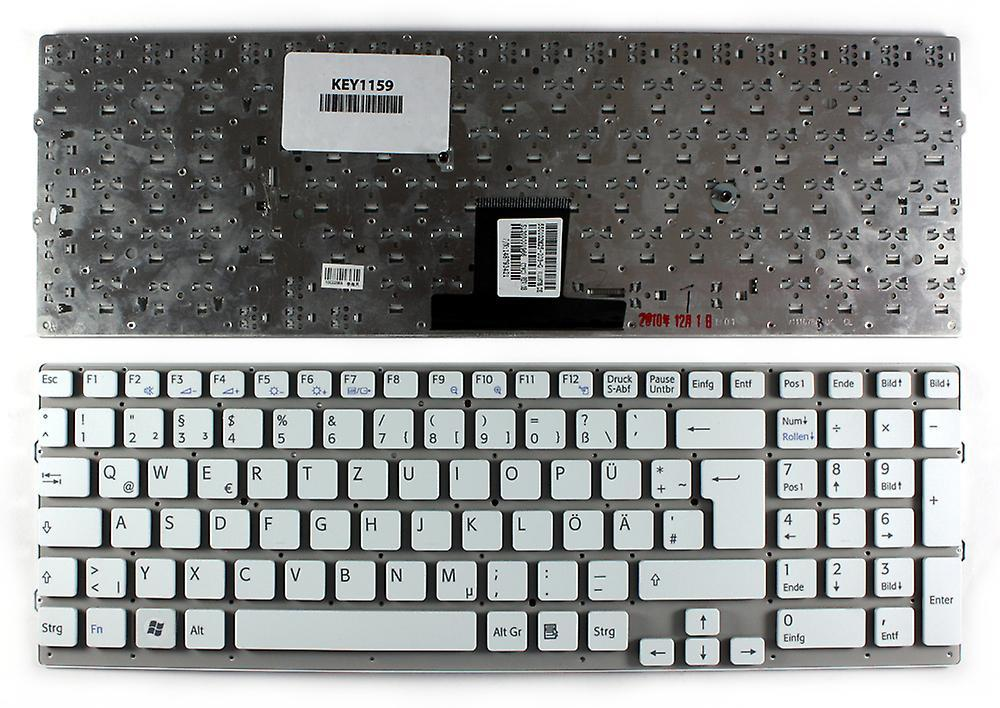0: (521, 405, 565, 448)
1: (72, 404, 114, 446)
2: (120, 405, 163, 447)
3: (169, 405, 213, 447)
4: (219, 405, 261, 447)
5: (268, 405, 312, 447)
6: (319, 405, 362, 447)
7: (369, 406, 413, 448)
8: (420, 406, 464, 448)
9: (471, 406, 515, 448)
a: (107, 504, 149, 546)
accent: (622, 405, 665, 447)
ae: (609, 506, 652, 548)
alt-left: (180, 606, 223, 648)
altgr-right: (483, 607, 526, 649)
b: (330, 556, 374, 599)
c: (230, 555, 273, 598)
caret: (30, 405, 66, 446)
comma: (483, 557, 526, 600)
d: (205, 505, 249, 547)
del: (672, 405, 764, 447)
e: (193, 455, 237, 498)
enter: (696, 455, 764, 548)
f: (256, 506, 298, 547)
g: (306, 506, 348, 548)
h: (356, 506, 399, 548)
hash: (659, 506, 702, 548)
i: (446, 456, 488, 497)
j: (407, 507, 449, 549)
k: (458, 506, 501, 549)
keyboard: (19, 347, 974, 677)
l: (509, 507, 551, 549)
less: (82, 554, 125, 597)
m: (431, 556, 475, 600)
minus: (583, 557, 627, 599)
n: (381, 556, 424, 599)
o: (495, 455, 539, 498)
oe: (559, 506, 602, 549)
p: (547, 455, 589, 498)
plus: (647, 455, 690, 498)
point: (533, 557, 576, 599)
q: (94, 454, 138, 497)
r: (243, 455, 286, 497)
s: (156, 505, 199, 547)
shift-left: (30, 554, 75, 596)
shift-lock: (33, 504, 99, 545)
shift-right: (635, 555, 765, 598)
space: (231, 606, 476, 650)
ss: (571, 406, 615, 448)
strg-left: (31, 603, 76, 646)
strg-right: (583, 607, 628, 649)
t: (294, 455, 336, 497)
tab: (34, 453, 87, 495)
u: (394, 455, 437, 498)
ue: (597, 455, 640, 498)
v: (280, 556, 324, 598)
w: (143, 454, 186, 496)
x: (181, 555, 223, 597)
y: (131, 555, 174, 596)
z: (344, 455, 387, 498)
